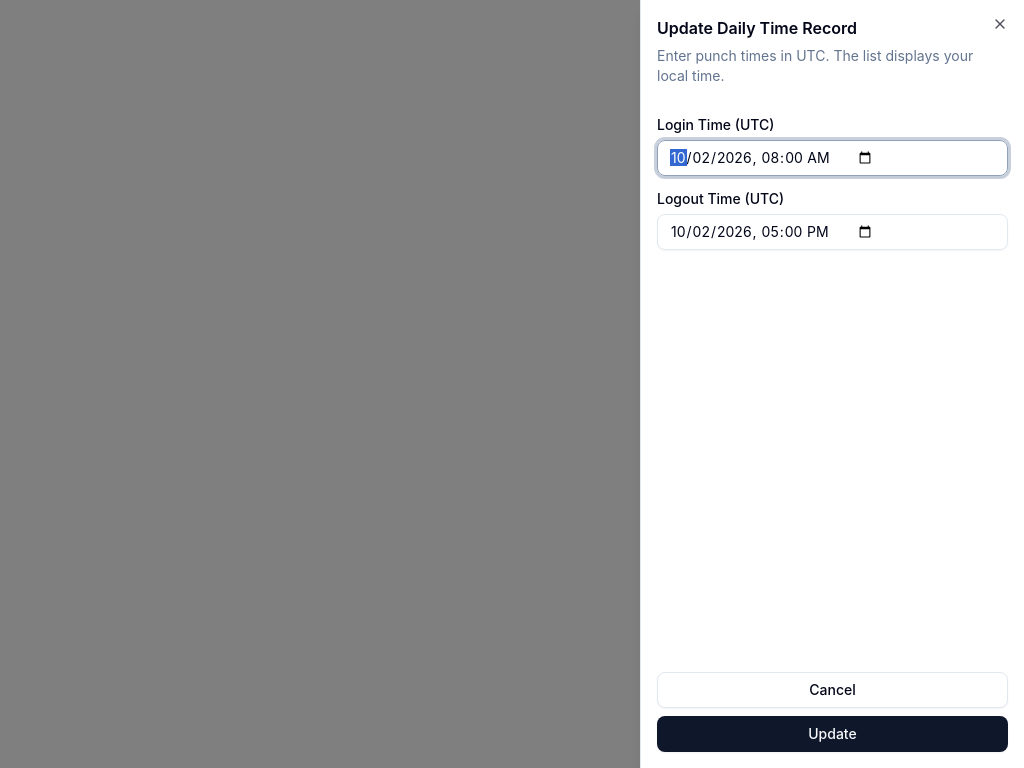
prevents reversed punches
The image size is (1024, 768).
Step 1. Replace the text in the field labelled "Logout Time (UTC)" with "2026-10-02T07:00" → (832, 232), box [657,214,1008,250]
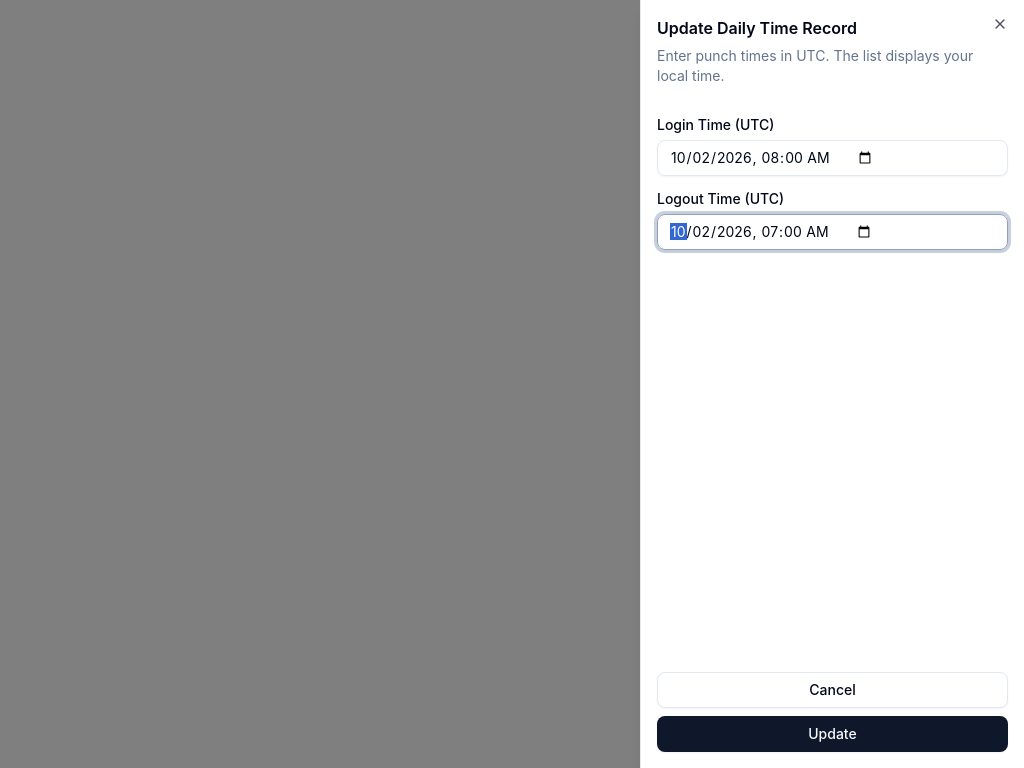
Step 2. Click the button "Update" → (832, 734), box [657,716,1008,752]
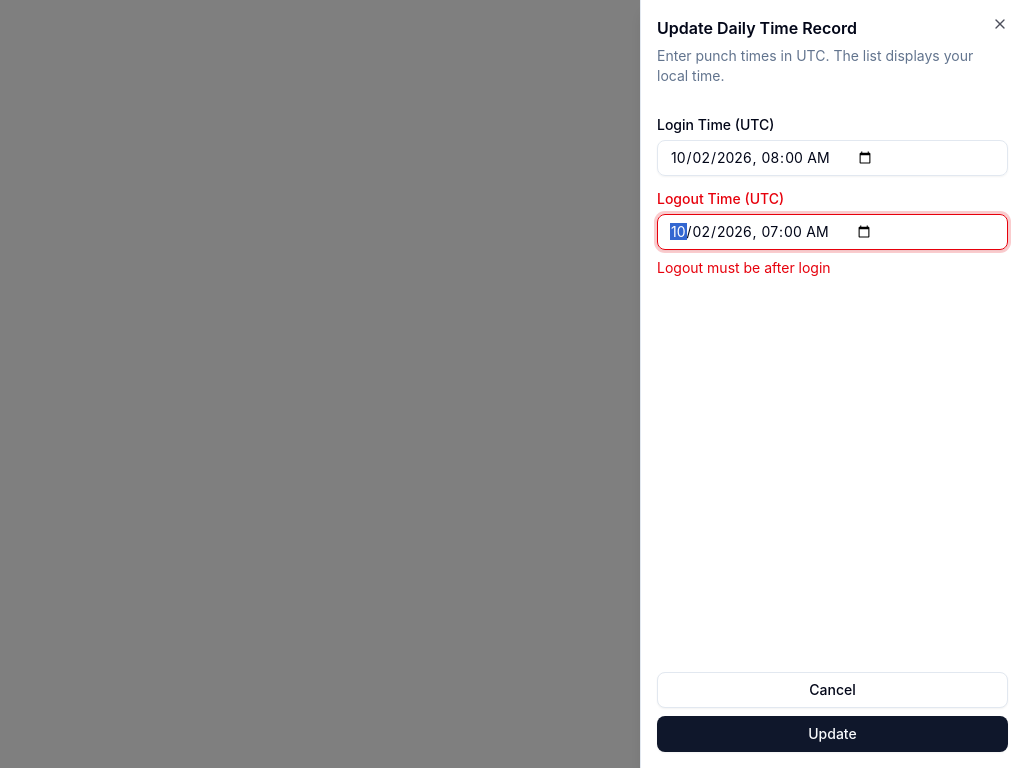
Expected: the text "Logout must be after login" is shown, [657,259,831,276]
